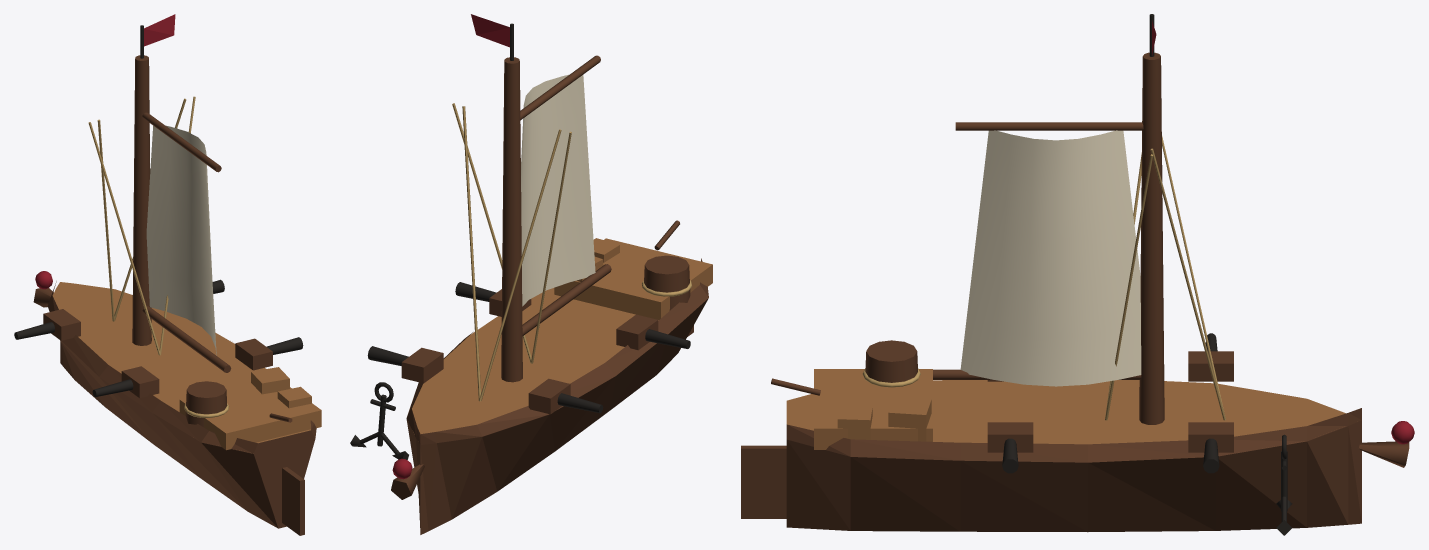
File: pirate-sloop-lvl1.glb
3 renders of one model, left to right at view 1: azimuth 30°, elevation 25°; view 2: azimuth 150°, elevation 25°; view 3: azimuth 270°, elevation 25°, orthographic. The views are drawn at different scales.
Parts seen in each view (by area): view 1: hull_hullShell, sail_mainSail, deck_mainDeck, mast_mainMast, deck_rearDeck, cannon_carriage (×3), rope_shroud (×2), cargo_crate (×2), cargo_barrel, rudder_blade, cannon_barrel (×3), mast_boom (+2 smaller); view 2: hull_hullShell, deck_mainDeck, sail_mainSail, mast_mainMast, deck_rearDeck, rope_shroud (×4), cannon_carriage (×3), cannon_barrel (×4), cargo_barrel, mast_boom, mast_yard, flag_cloth (+2 smaller); view 3: hull_hullShell, sail_mainSail, deck_mainDeck, mast_mainMast, deck_rearDeck, cannon_carriage (×3), rudder_blade, rope_shroud (×3), cargo_crate (×2), cargo_barrel, mast_yard, figurehead_scroll.
Part boxes in pixels (x1=…): hull_hullShell: x1=47, y1=281, x2=316, y2=528; sail_mainSail: x1=146, y1=125, x2=216, y2=355; deck_mainDeck: x1=52, y1=282, x2=310, y2=443; mast_mainMast: x1=132, y1=55, x2=151, y2=345; deck_rearDeck: x1=179, y1=382, x2=321, y2=450; cannon_carriage (×3): x1=43, y1=309, x2=272, y2=398; rope_shroud (×2): x1=88, y1=119, x2=160, y2=355; cargo_crate (×2): x1=251, y1=367, x2=311, y2=408; cargo_barrel: x1=185, y1=381, x2=227, y2=427; rudder_blade: x1=282, y1=467, x2=304, y2=535; cannon_barrel (×3): x1=14, y1=322, x2=303, y2=397; mast_boom: x1=142, y1=306, x2=231, y2=372; hull_hullShell: x1=406, y1=258, x2=708, y2=534; deck_mainDeck: x1=412, y1=288, x2=658, y2=434; sail_mainSail: x1=521, y1=74, x2=595, y2=306; mast_mainMast: x1=501, y1=57, x2=522, y2=382; deck_rearDeck: x1=554, y1=238, x2=712, y2=319; rope_shroud (×4): x1=452, y1=103, x2=571, y2=401; cannon_carriage (×3): x1=401, y1=314, x2=658, y2=414; cannon_barrel (×4): x1=367, y1=282, x2=690, y2=413; cargo_barrel: x1=644, y1=255, x2=690, y2=310; mast_boom: x1=522, y1=264, x2=611, y2=335; mast_yard: x1=520, y1=55, x2=600, y2=120; flag_cloth: x1=471, y1=14, x2=509, y2=47; hull_hullShell: x1=786, y1=408, x2=1361, y2=532; sail_mainSail: x1=960, y1=130, x2=1141, y2=386; deck_mainDeck: x1=786, y1=380, x2=1345, y2=444; mast_mainMast: x1=1139, y1=52, x2=1164, y2=424; deck_rearDeck: x1=814, y1=369, x2=932, y2=449; cannon_carriage (×3): x1=987, y1=351, x2=1233, y2=452; rudder_blade: x1=741, y1=445, x2=786, y2=518; rope_shroud (×3): x1=1105, y1=136, x2=1225, y2=420; cargo_crate (×2): x1=837, y1=396, x2=931, y2=441; cargo_barrel: x1=865, y1=340, x2=917, y2=382; mast_yard: x1=955, y1=122, x2=1143, y2=130; figurehead_scroll: x1=1359, y1=441, x2=1409, y2=467.
Bounding box in the file's own units: 3.33 × 6.19 × 7.38.
